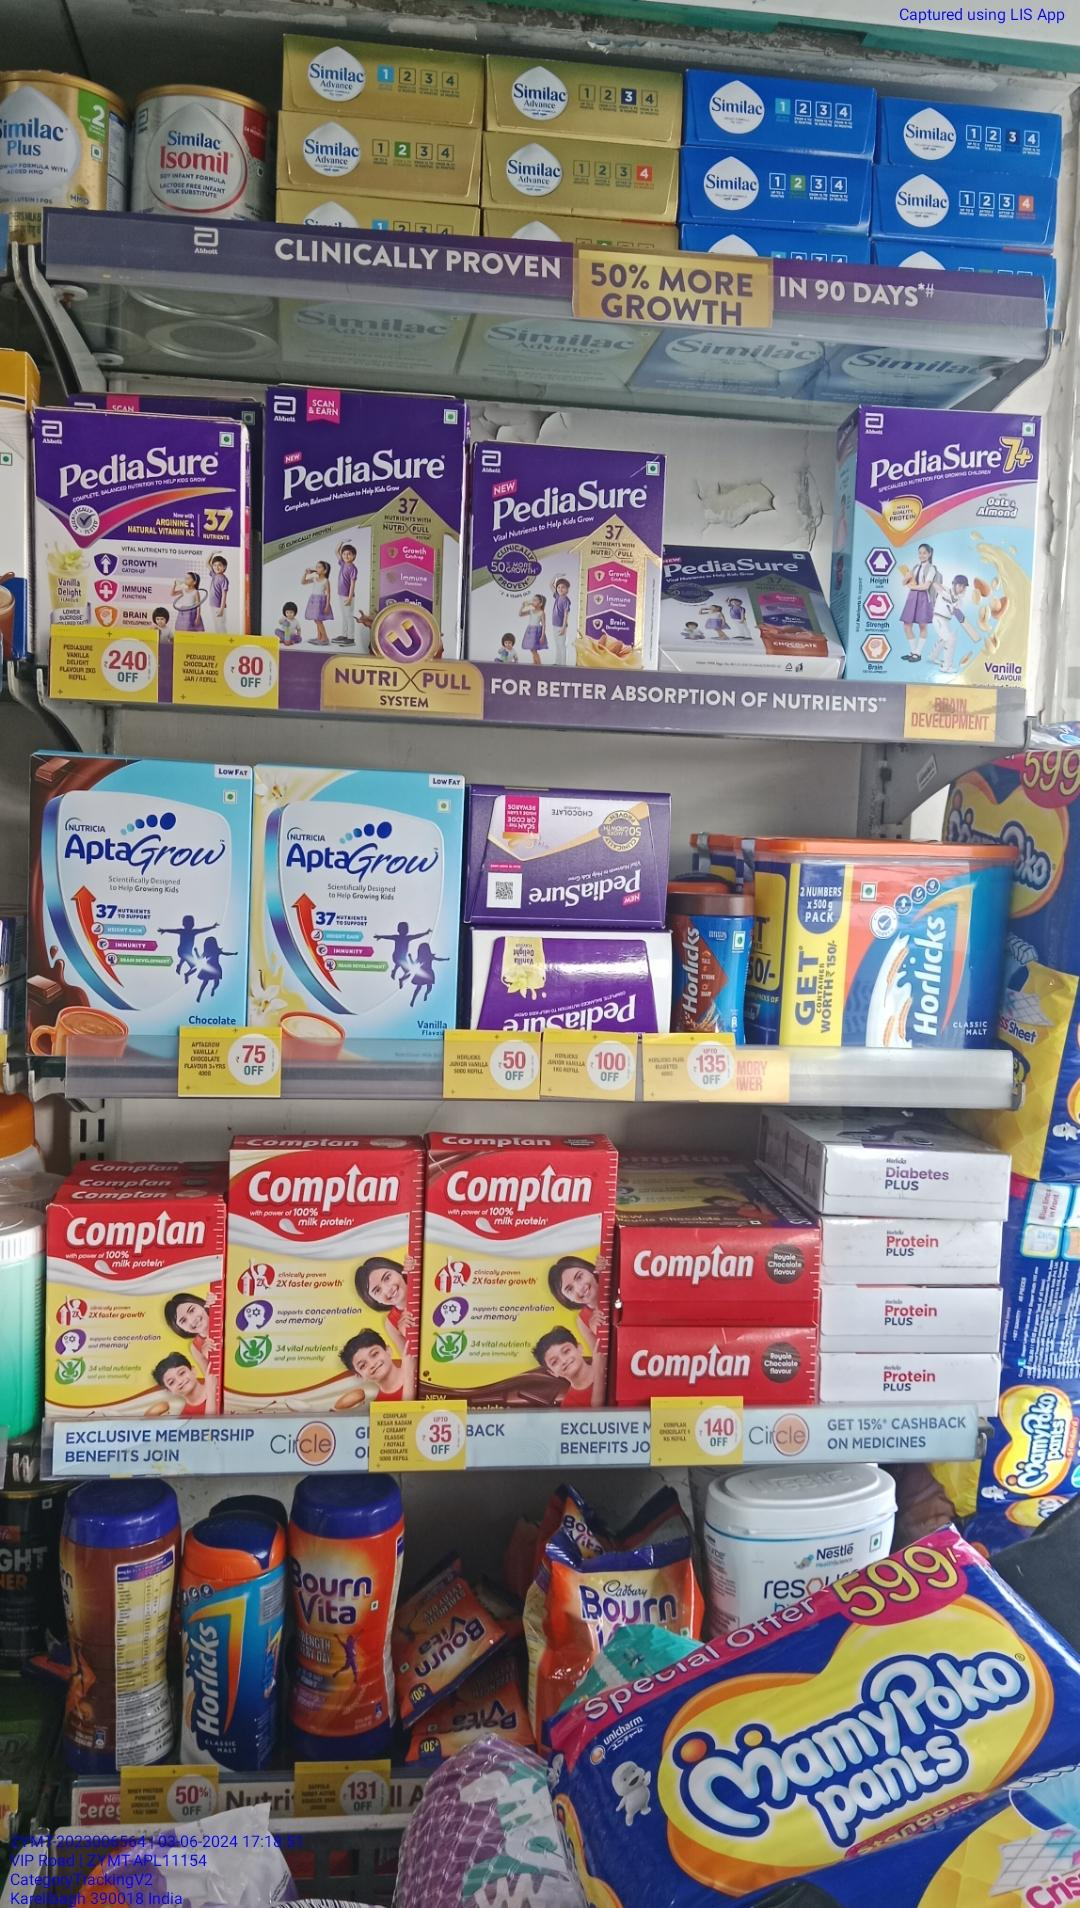BOURN_VITA_1_KG_JAR: (296, 1511, 397, 1760)
COMPLAN_CHOCOLATE_500_GMS_PACK: (426, 1154, 607, 1403)
COMPLAN_KESAR_BADAM_200_GMS_PACK: (47, 1206, 223, 1414)
COMPLAN_KESAR_BADAM_500_GMS_PACK: (232, 1154, 418, 1401)
HORLICK_CHOCOLATE_200_G_JAR: (679, 895, 748, 1038)
HORLICK_MALT_1_KG_CONTAINER: (786, 841, 1004, 1047)
PEDIASURE_CHOCOLATE_500_G_PACK: (265, 384, 464, 609)
